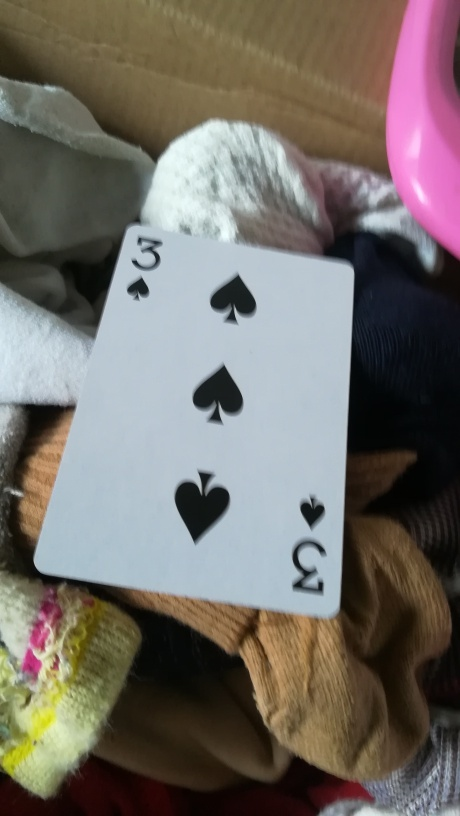ht 3: (30, 210, 362, 626)
